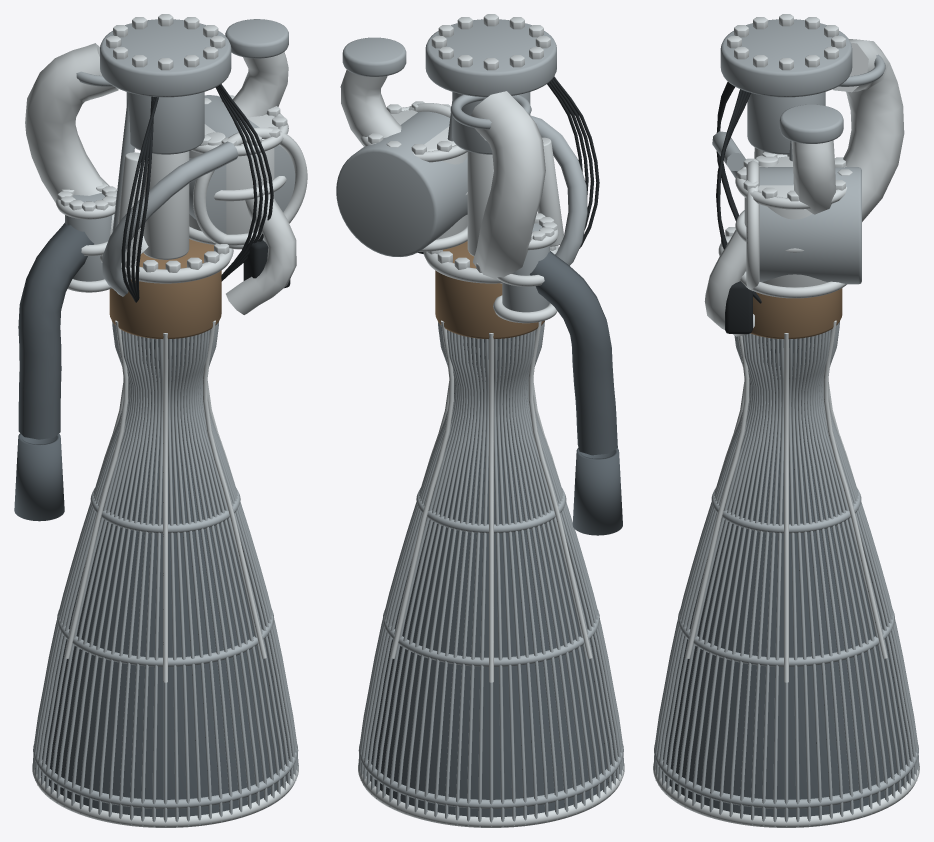
The model's file is Merlin1D_Engine.fbx.
The picture shows the model from 3 angles, left to right: view 1: azimuth 30°, elevation 25°; view 2: azimuth 150°, elevation 25°; view 3: azimuth 270°, elevation 25°; orthographic projection.
Visible parts, largest first — view 1: Geometry_BrushedSteel, Geometry_NozzleAlloy, Geometry_PipeSteel, Geometry_HeatTint, Geometry_Gaskets; view 2: Geometry_BrushedSteel, Geometry_NozzleAlloy, Geometry_PipeSteel, Geometry_HeatTint, Geometry_Gaskets; view 3: Geometry_BrushedSteel, Geometry_NozzleAlloy, Geometry_PipeSteel, Geometry_HeatTint, Geometry_Gaskets.
Part boxes in pixels (x1,y1,x2,y2): Geometry_BrushedSteel: (33, 19, 298, 826); Geometry_NozzleAlloy: (14, 222, 290, 817); Geometry_PipeSteel: (25, 14, 307, 827); Geometry_HeatTint: (109, 239, 221, 339); Geometry_Gaskets: (121, 84, 290, 302); Geometry_BrushedSteel: (336, 19, 623, 826); Geometry_NozzleAlloy: (366, 251, 622, 817); Geometry_PipeSteel: (340, 14, 624, 827); Geometry_HeatTint: (435, 241, 544, 339); Geometry_Gaskets: (418, 76, 599, 254); Geometry_BrushedSteel: (653, 19, 919, 826); Geometry_NozzleAlloy: (662, 337, 910, 817); Geometry_PipeSteel: (653, 14, 919, 827); Geometry_HeatTint: (750, 288, 842, 338); Geometry_Gaskets: (716, 82, 761, 333).
Size of the model in its own units: 1.13 by 2.9 by 0.954.
